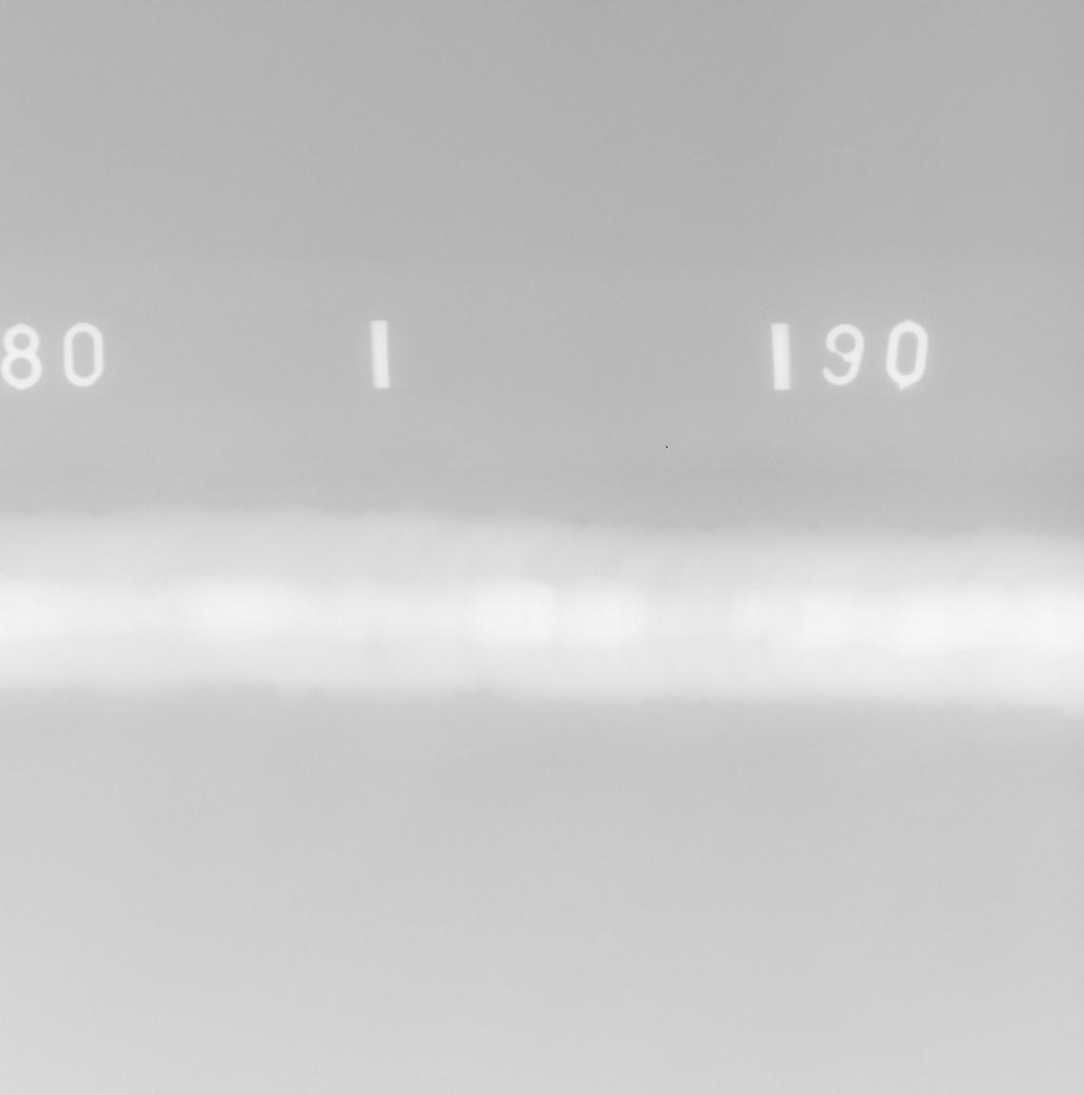Pore/Porosity: (1057, 603, 1067, 611)
